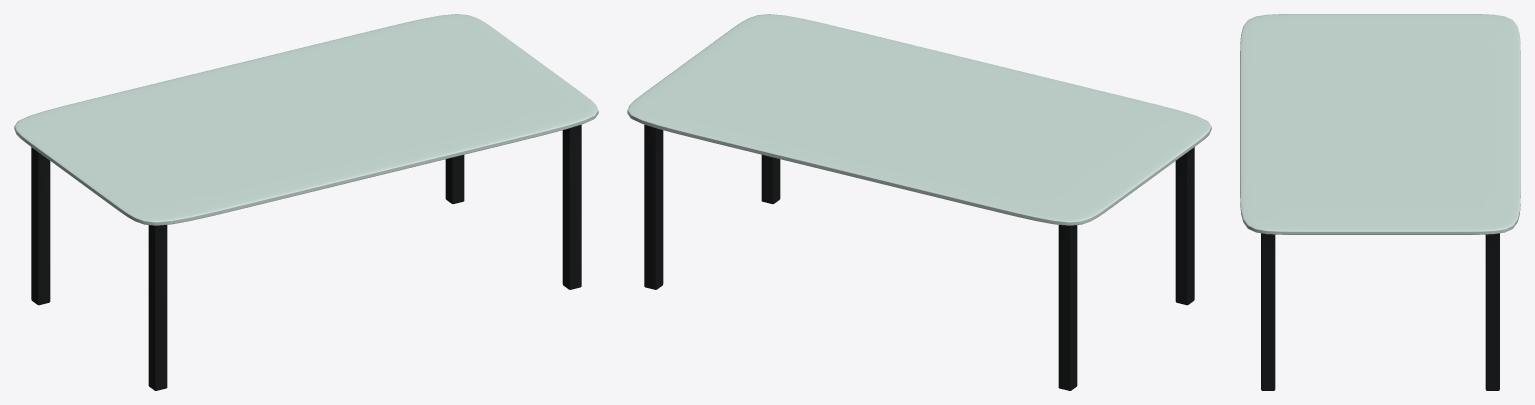
Rendered from glass-coffee.glb.
3 renders of one model, left to right at view 1: azimuth 30°, elevation 25°; view 2: azimuth 150°, elevation 25°; view 3: azimuth 270°, elevation 25°, orthographic. The views are drawn at different scales.
Parts seen in each view (by area): view 1: glass_top, metal_legs; view 2: glass_top, metal_legs; view 3: glass_top, metal_legs.
Boxes of the visible parts, left/top/right/bottom form: glass_top: left=14, top=14, right=598, bottom=225; metal_legs: left=31, top=124, right=581, bottom=390; glass_top: left=627, top=14, right=1211, bottom=225; metal_legs: left=644, top=124, right=1194, bottom=390; glass_top: left=1240, top=14, right=1520, bottom=234; metal_legs: left=1261, top=233, right=1499, bottom=390.
Size of the model in its own units: 1.1 by 0.4 by 0.6.
Materials: 2 (1 with a texture image).
